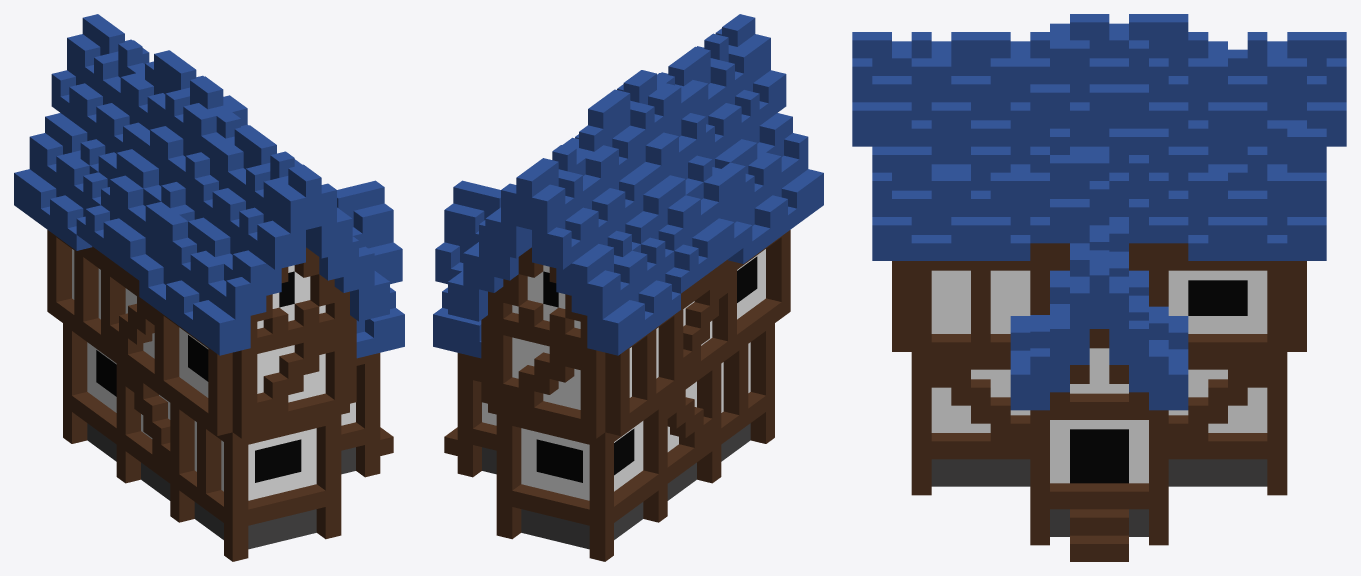
Rendered from house09.fbx.
3 renders of one model, left to right at view 1: azimuth 30°, elevation 25°; view 2: azimuth 150°, elevation 25°; view 3: azimuth 270°, elevation 25°, orthographic. The views are drawn at different scales.
Visible parts, largest first — view 1: house1-12; view 2: house1-12; view 3: house1-12.
Boxes of the visible parts, box(x1,y1,x2,y2) form: house1-12: box(14, 14, 404, 561); house1-12: box(433, 14, 823, 561); house1-12: box(852, 14, 1346, 561).
Size of the model in its own units: 1700 by 2500 by 2500.
